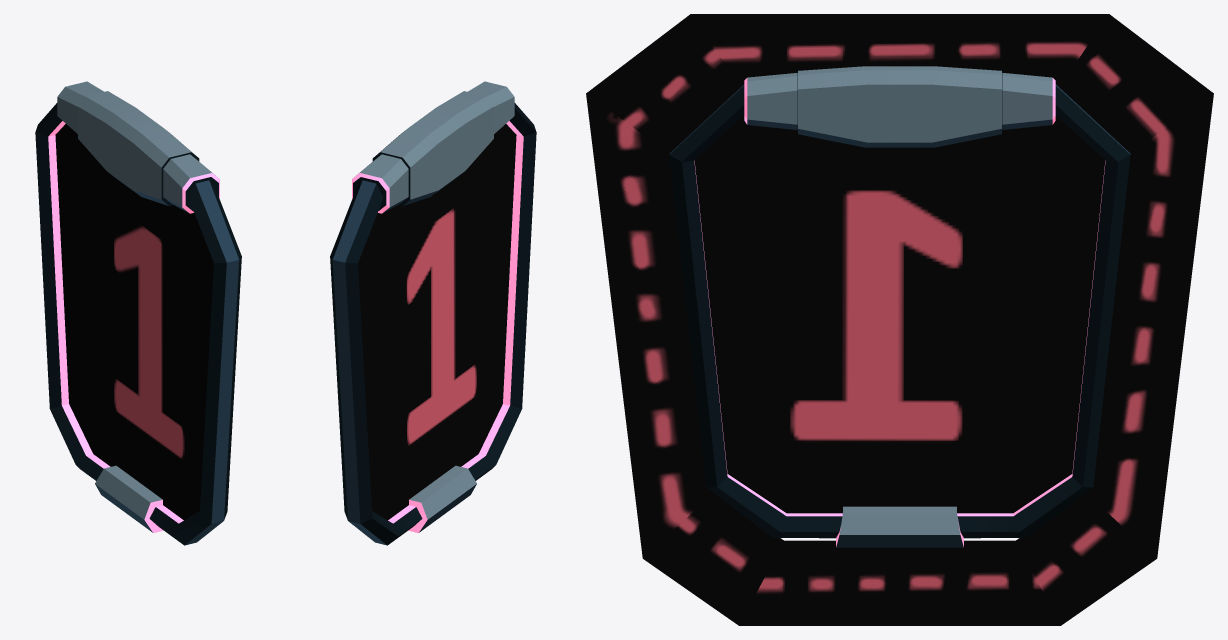
File: mesh_screen_information_floor_01.fbx
3 renders of one model, left to right at view 1: azimuth 30°, elevation 25°; view 2: azimuth 150°, elevation 25°; view 3: azimuth 270°, elevation 25°, orthographic. The views are drawn at different scales.
Parts seen in each view (by area): view 1: mesh_screen_information_floor_01; view 2: mesh_screen_information_floor_01; view 3: mesh_screen_information_floor_01.
Part boxes in pixels (x1=…): mesh_screen_information_floor_01: x1=35, y1=81, x2=241, y2=545; mesh_screen_information_floor_01: x1=330, y1=81, x2=536, y2=545; mesh_screen_information_floor_01: x1=586, y1=14, x2=1213, y2=625.
Bounding box in the file's own units: 9.24 × 116 × 108.
Materials: 6 (1 with a texture image).
